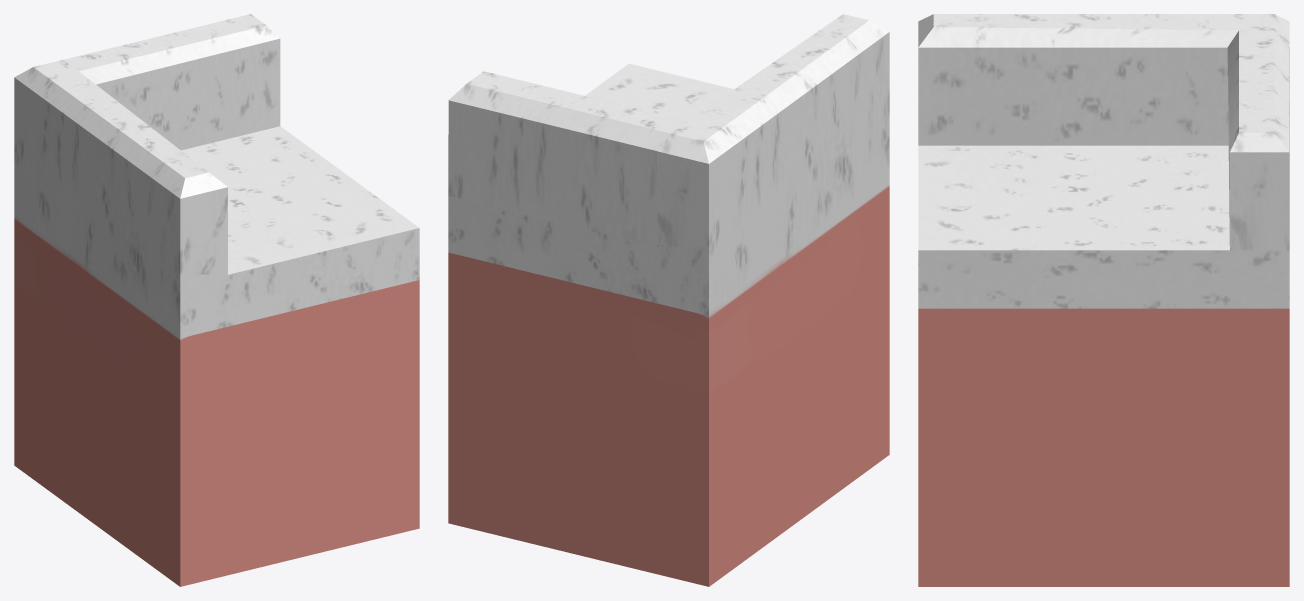
Rendered from CounterTop_Corner_01.fbx.
3 renders of one model, left to right at view 1: azimuth 30°, elevation 25°; view 2: azimuth 150°, elevation 25°; view 3: azimuth 270°, elevation 25°, orthographic. The views are drawn at different scales.
Visible parts, largest first — view 1: Counter_Top_03; view 2: Counter_Top_03; view 3: Counter_Top_03.
Boxes of the visible parts, x1,y1,x2,y2 form: Counter_Top_03: (14,14,419,586); Counter_Top_03: (448,14,889,586); Counter_Top_03: (918,14,1289,586).
Size of the model in its own units: 2.5 by 4 by 3.
